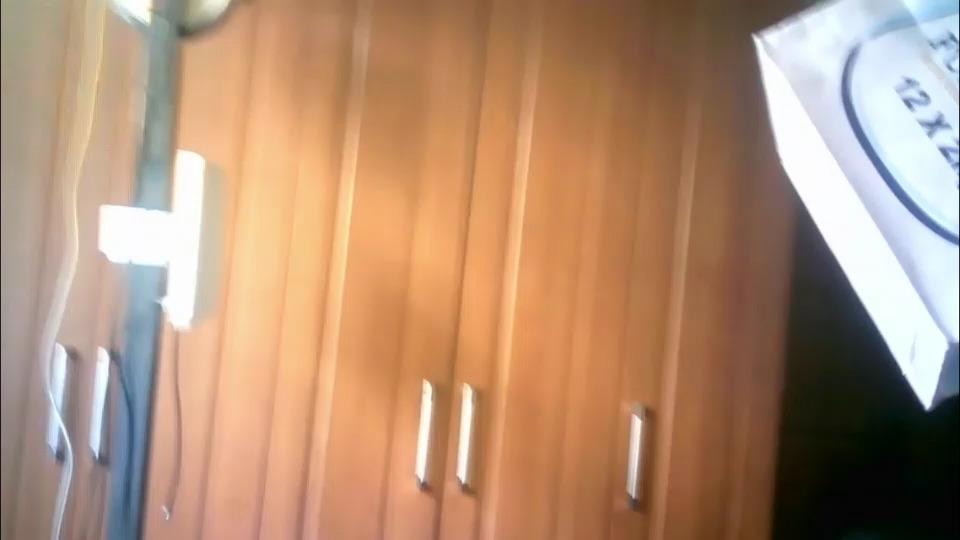wheat_flour_blue_label: (750, 6, 960, 408)
